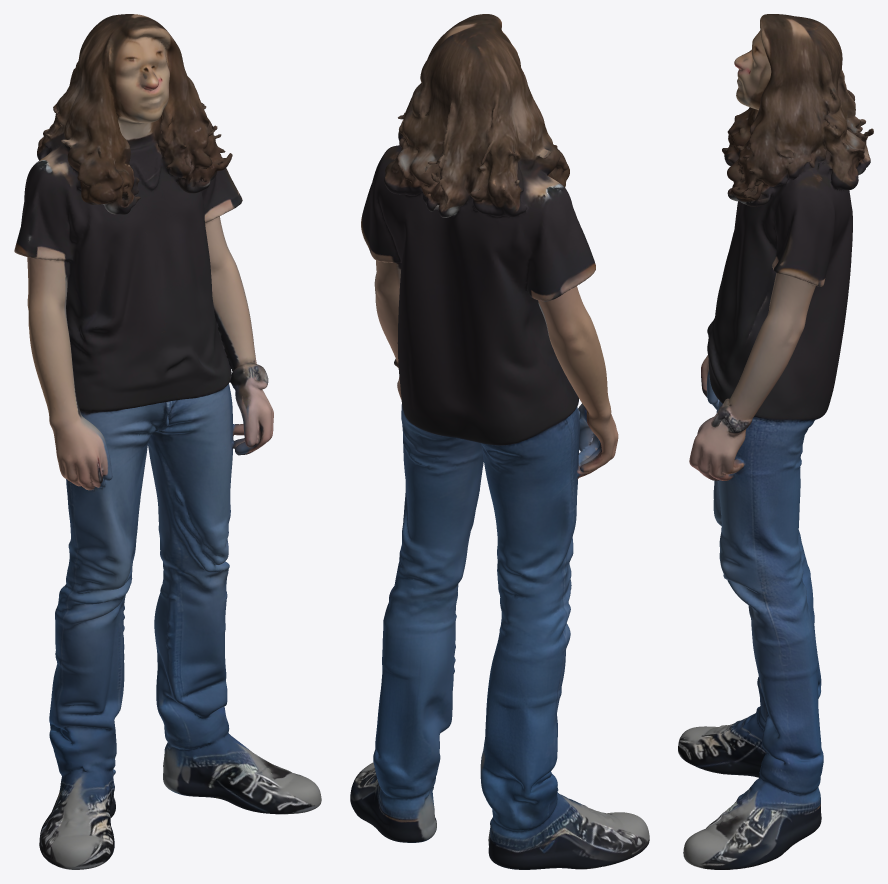
The model's file is max.glb.
3 views of the same model, side by side, from view 1: azimuth 30°, elevation 25°; view 2: azimuth 150°, elevation 25°; view 3: azimuth 270°, elevation 25° (orthographic). The views are drawn at different scales.
Visible parts, largest first — view 1: tripo_node_a12500be-e99b-4131-887c-87013a89edbe; view 2: tripo_node_a12500be-e99b-4131-887c-87013a89edbe; view 3: tripo_node_a12500be-e99b-4131-887c-87013a89edbe.
Part boxes in pixels (x1,y1,x2,y2): tripo_node_a12500be-e99b-4131-887c-87013a89edbe: (14,14,321,869); tripo_node_a12500be-e99b-4131-887c-87013a89edbe: (350,14,649,869); tripo_node_a12500be-e99b-4131-887c-87013a89edbe: (678,14,873,869).
Size of the model in its own units: 0.355 by 1 by 0.2265.
Materials: 1 (1 with a texture image).
